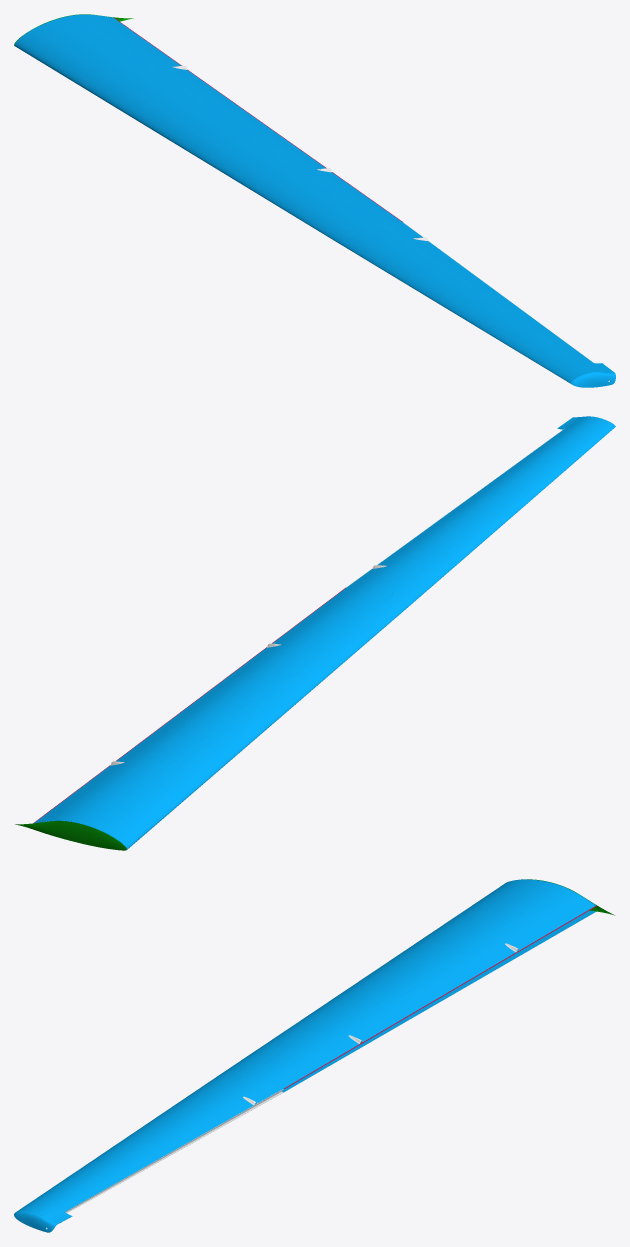
The model's file is pik_20b_left_wing.dae.
3 renders of one model, top to bottom at view 1: azimuth 30°, elevation 25°; view 2: azimuth 150°, elevation 25°; view 3: azimuth 330°, elevation 25°, orthographic. The views are drawn at different scales.
Parts seen in each view (by area): view 1: node8.001; view 2: node8.001; view 3: node8.001.
Boxes of the visible parts, box(x1,y1,x2,y2) form: node8.001: box(14, 14, 615, 387); node8.001: box(15, 416, 615, 850); node8.001: box(14, 879, 614, 1232).
Bounding box in the file's own units: 0.9088 × 7.11 × 0.4447.
